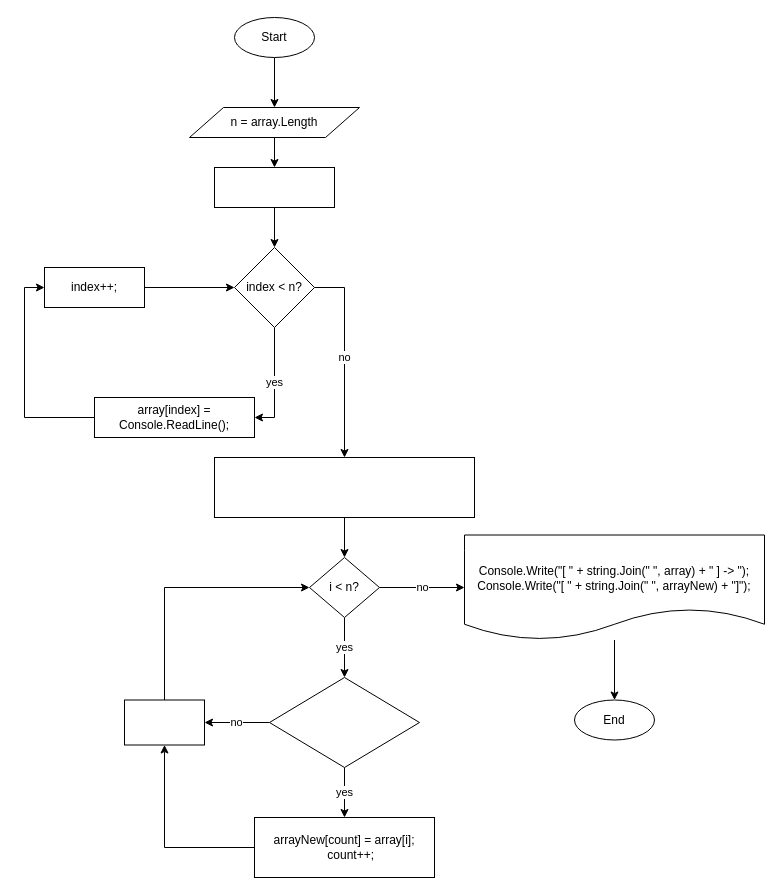
The diagram is 782 pixels wide and 895 high, and some of its shapes have lost their labels. The centre of each missing label's shape, as x and y in pixels:
"array[i].Length <= 3?" goes at [344,722].
"i++;" goes at [164,722].
"index = 0;" goes at [274,187].
"string[] arrayNew = new string[array.Length]; count = 0; i = 0;" goes at [344,487].
